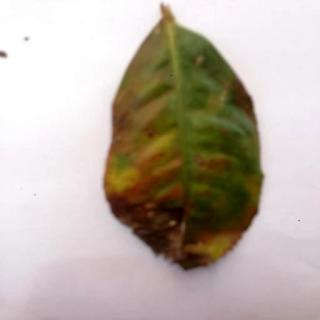Algal Leaf: (106, 6, 264, 271)
